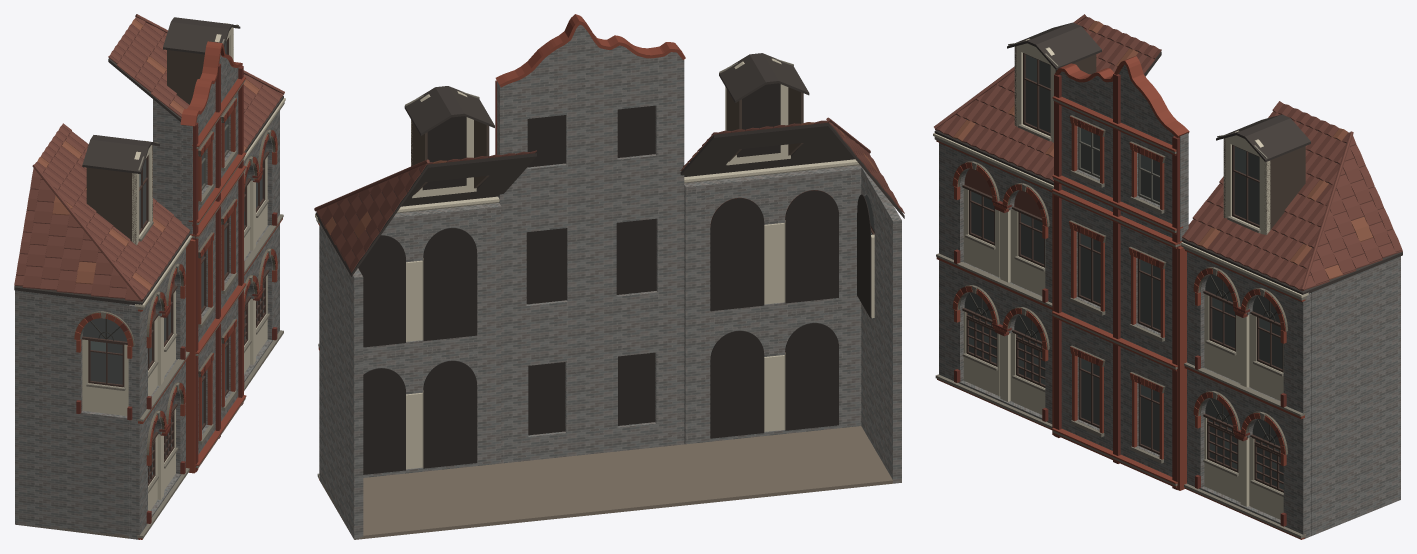
File: hongkou-huoshan-119-121-arcaded-front-lod.glb
3 views of the same model, side by side, from view 1: azimuth 30°, elevation 25°; view 2: azimuth 150°, elevation 25°; view 3: azimuth 270°, elevation 25° (orthographic). The views are drawn at different scales.
Visible parts, largest first — view 1: 霍山路119–121号住宅双拱窗与砖砌女儿墙; view 2: 霍山路119–121号住宅双拱窗与砖砌女儿墙; view 3: 霍山路119–121号住宅双拱窗与砖砌女儿墙.
Boxes of the visible parts, x1=… form: 霍山路119–121号住宅双拱窗与砖砌女儿墙: x1=14, y1=14, x2=285, y2=539; 霍山路119–121号住宅双拱窗与砖砌女儿墙: x1=314, y1=14, x2=904, y2=539; 霍山路119–121号住宅双拱窗与砖砌女儿墙: x1=933, y1=14, x2=1402, y2=539.
Size of the model in its own units: 14.84 by 13.82 by 14.5.
Materials: 18 (1 with a texture image).
